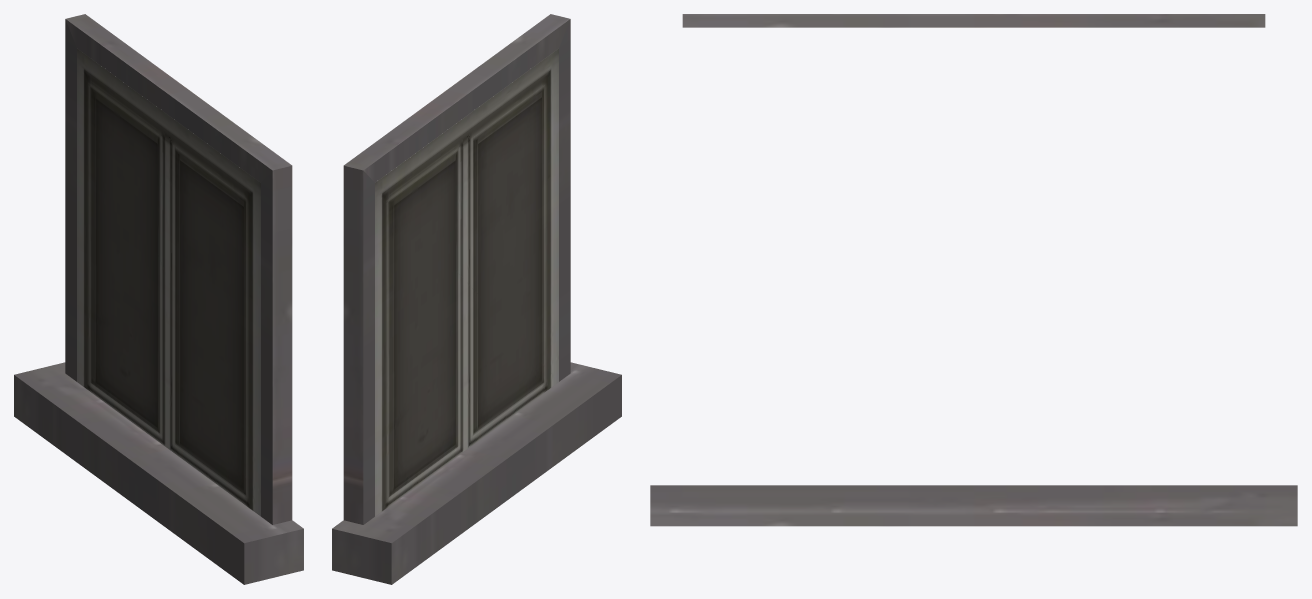
The picture shows the model from 3 angles, left to right: view 1: azimuth 30°, elevation 25°; view 2: azimuth 150°, elevation 25°; view 3: azimuth 270°, elevation 25°; orthographic projection. The views are drawn at different scales.
Visible parts, largest first — view 1: body0_model0_lod0_mesh1, body0_model0_lod0_mesh0; view 2: body0_model0_lod0_mesh1, body0_model0_lod0_mesh0; view 3: body0_model0_lod0_mesh0.
Boxes of the visible parts, x1,y1,x2,y2 form: body0_model0_lod0_mesh1: (77, 48, 260, 516); body0_model0_lod0_mesh0: (14, 14, 303, 584); body0_model0_lod0_mesh1: (375, 48, 558, 516); body0_model0_lod0_mesh0: (332, 14, 621, 584); body0_model0_lod0_mesh0: (650, 14, 1297, 526).
Size of the model in its own units: 12 by 76 by 80.
2 materials, 2 textured.
